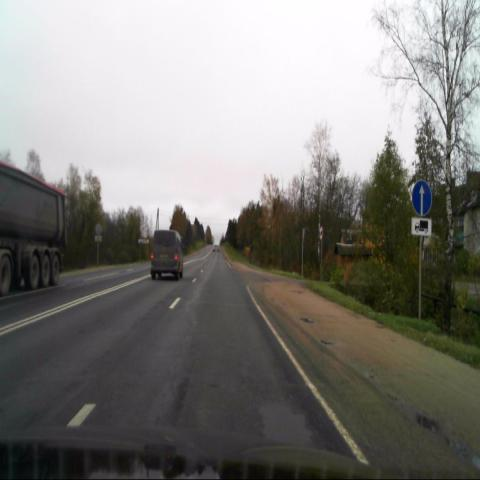8_4_1: (412, 218, 431, 237)
